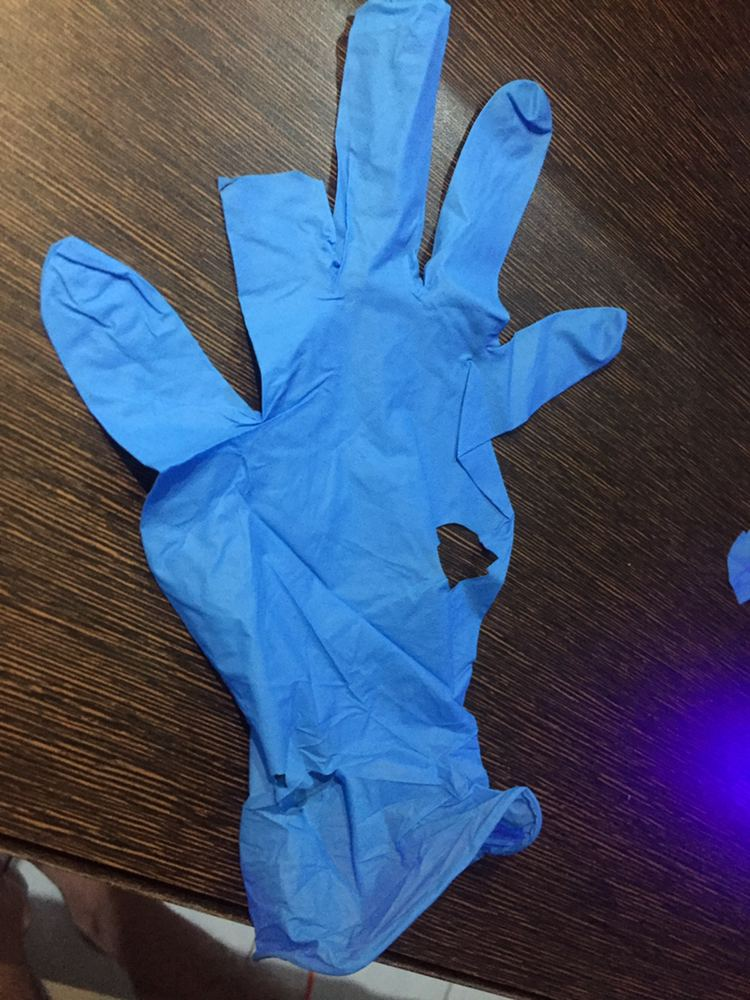defected: (26, 1, 617, 906)
